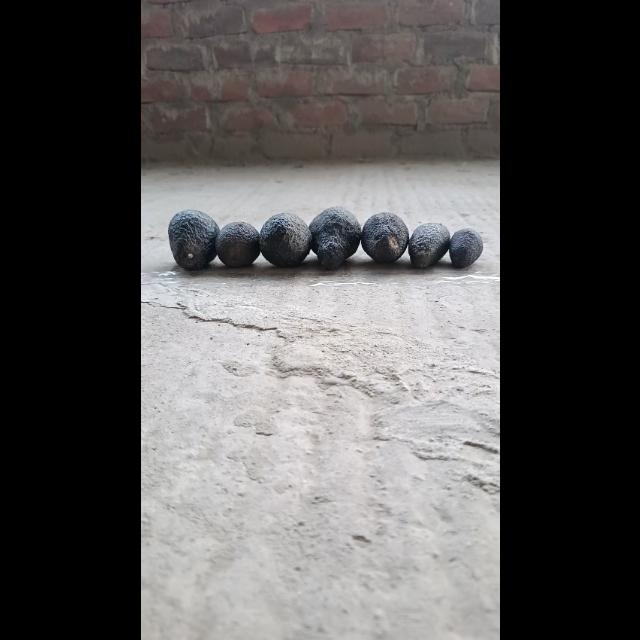Primera: (308, 207, 360, 269), (166, 208, 218, 270), (258, 212, 310, 266), (359, 212, 409, 262)
Segunda: (214, 220, 260, 268), (408, 222, 450, 268)
Tercera: (446, 228, 484, 268)
